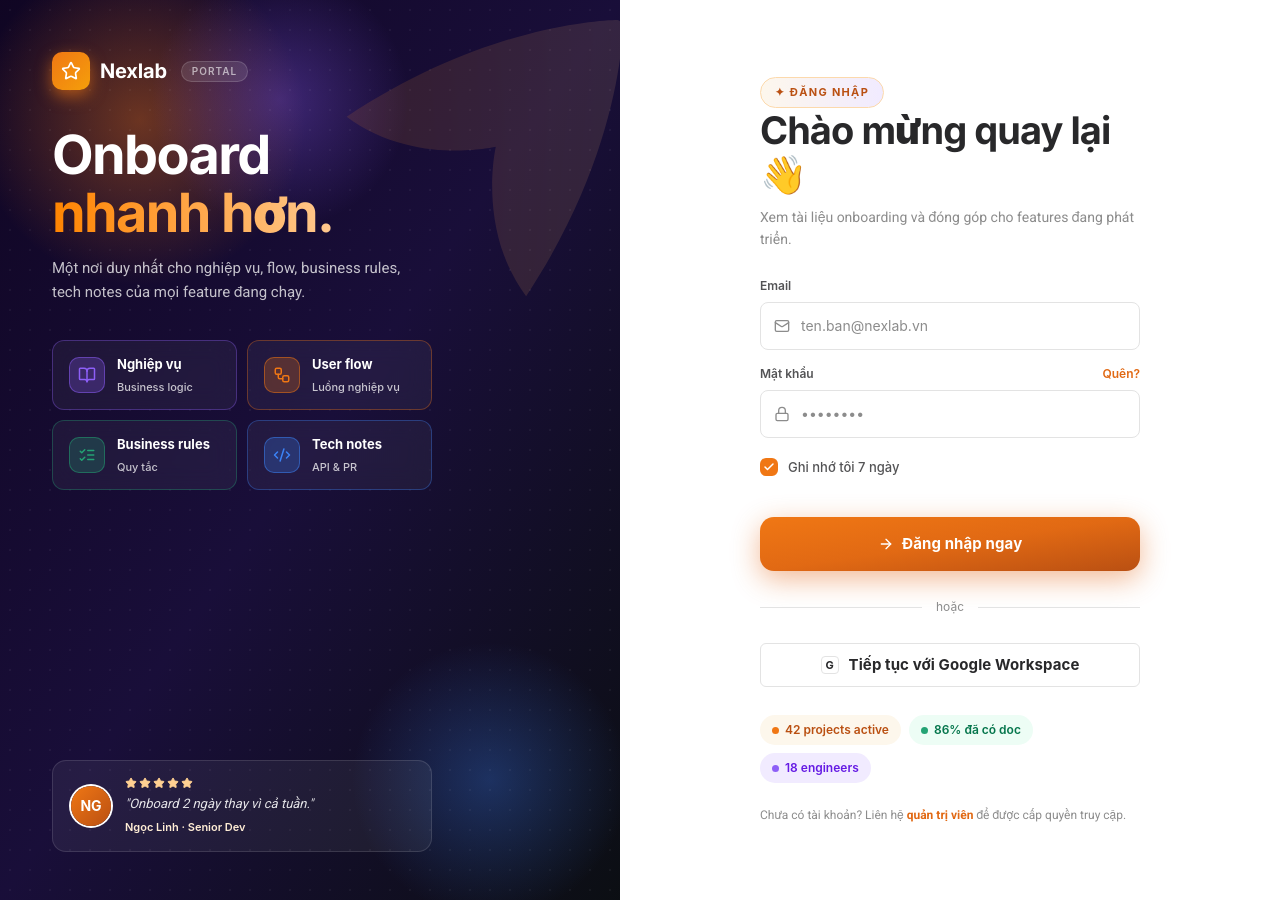
Test: LoginPage › shows mapped error copy when the API returns INVALID_CREDENTIALS
The width and height of the screenshot is (1280, 900).
Type "admin@local" into the field labelled "Email" at [950, 326], box [760,302,1140,350]
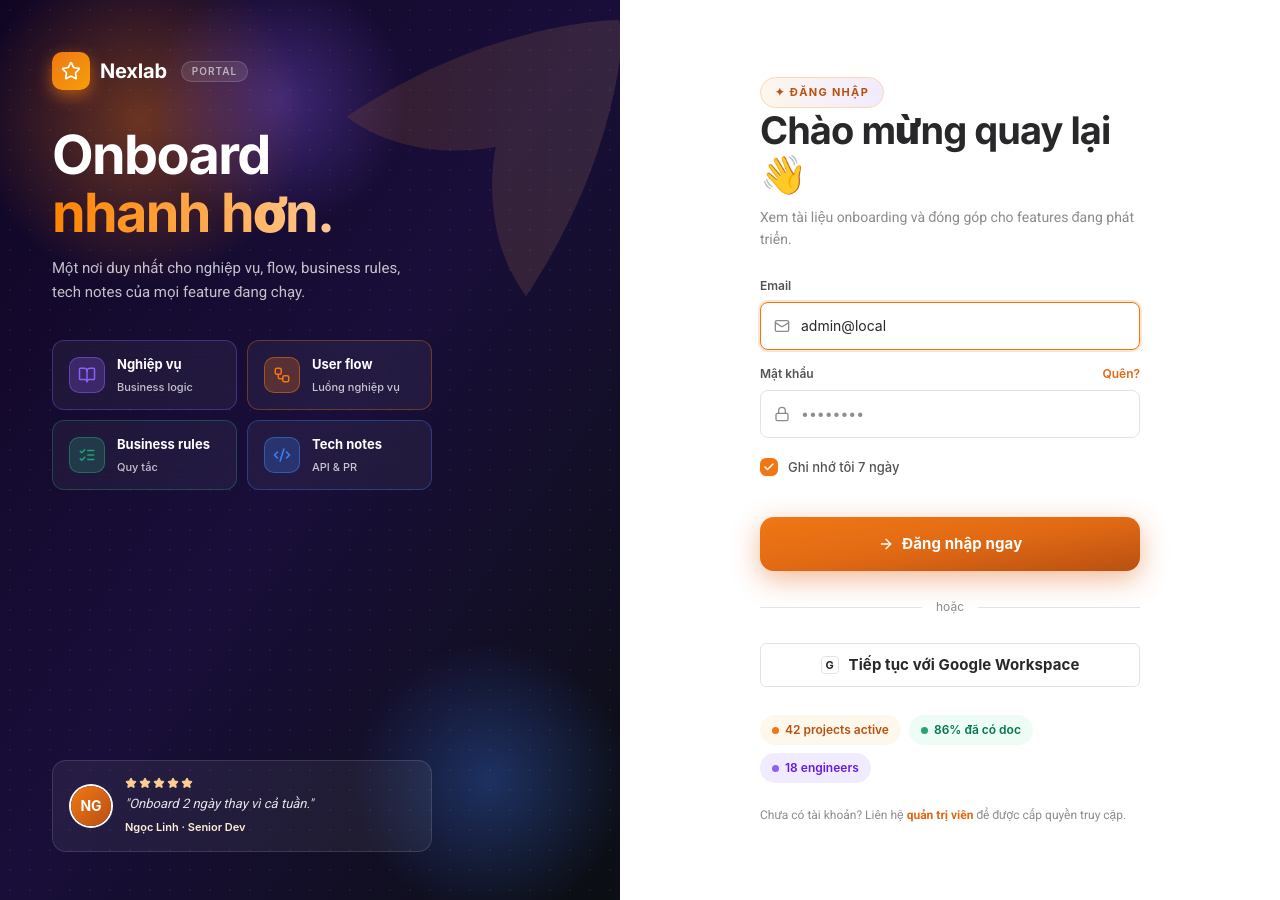
Type "wrong" into the password field labelled "Mật khẩu" at [950, 414], box [760,390,1140,438]
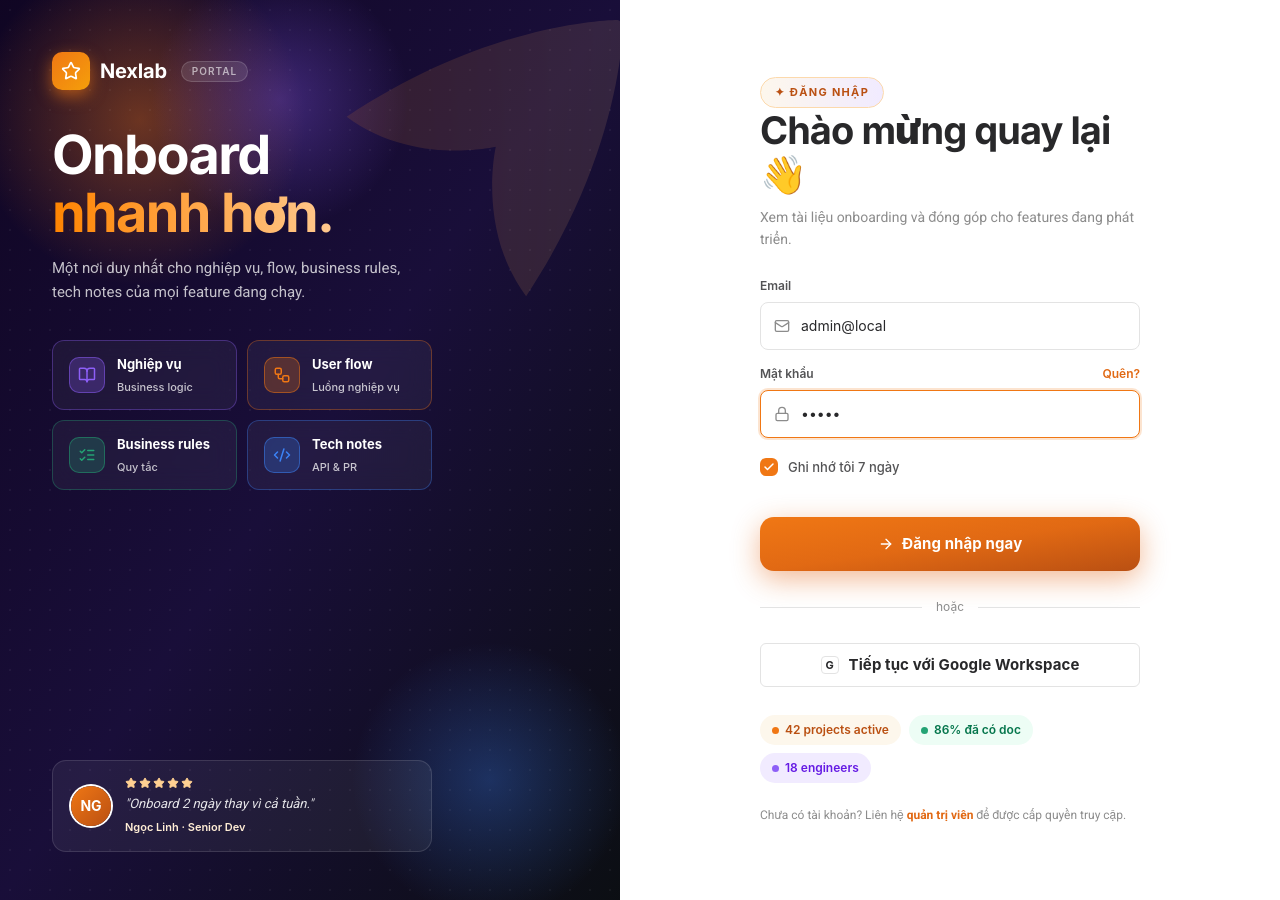
Click the button "Đăng nhập ngay" at [950, 544], box [760,517,1140,571]
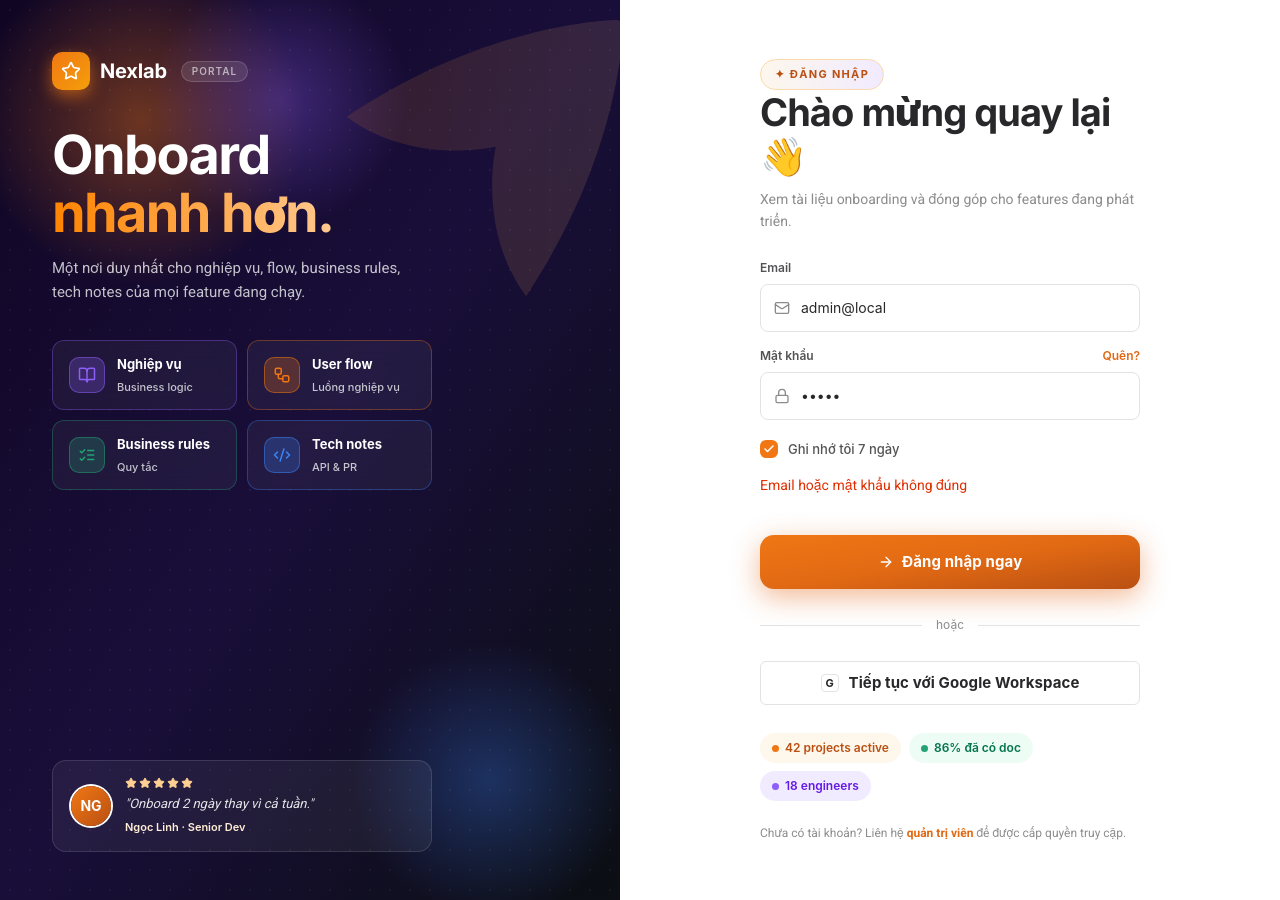
Now the text "Email hoặc mật khẩu không đúng" is shown, box [760,477,967,493]
